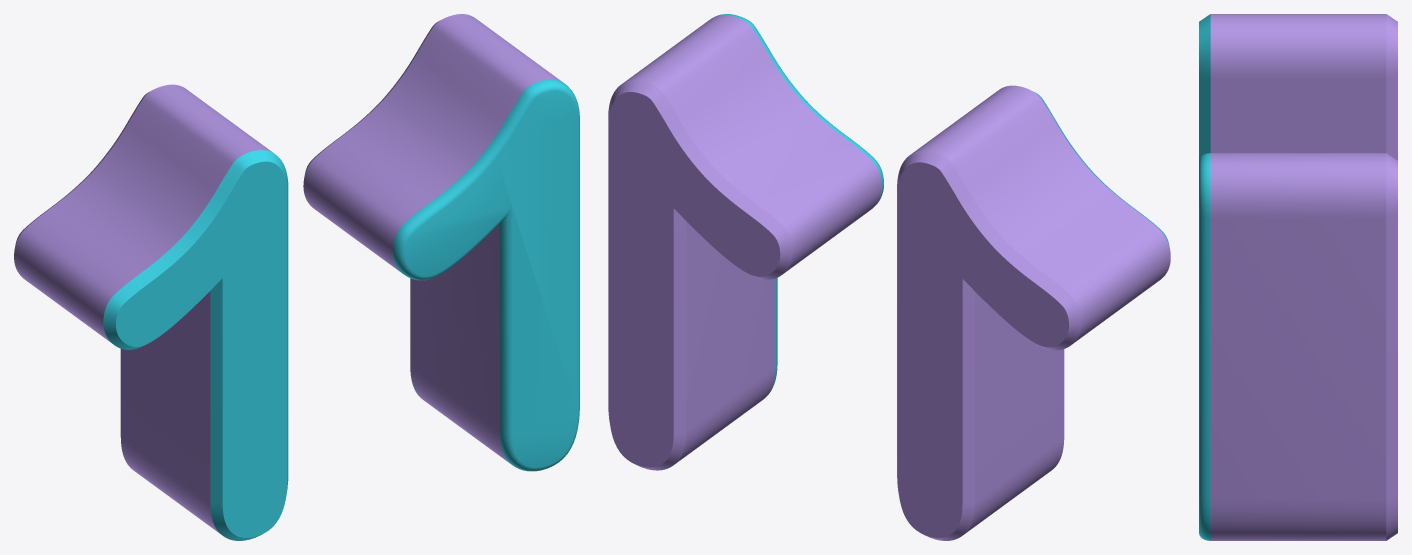
3 renders of one model, left to right at view 1: azimuth 30°, elevation 25°; view 2: azimuth 150°, elevation 25°; view 3: azimuth 270°, elevation 25°, orthographic.
Visible parts, largest first — view 1: Sebelas_3D; view 2: Sebelas_3D; view 3: Sebelas_3D.
Boxes of the visible parts, box(x1,y1,x2,y2) form: Sebelas_3D: box(14, 14, 579, 540); Sebelas_3D: box(608, 14, 1170, 540); Sebelas_3D: box(1199, 14, 1397, 540).
Bounding box in the file's own units: 210 × 164 × 77.6.
